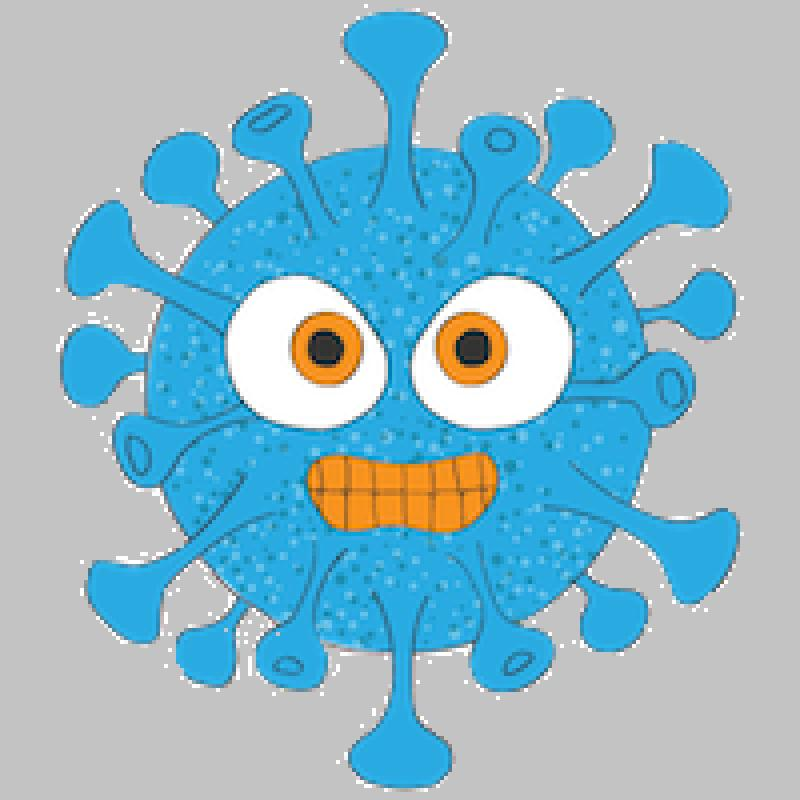corona1: (4, 4, 797, 799)
